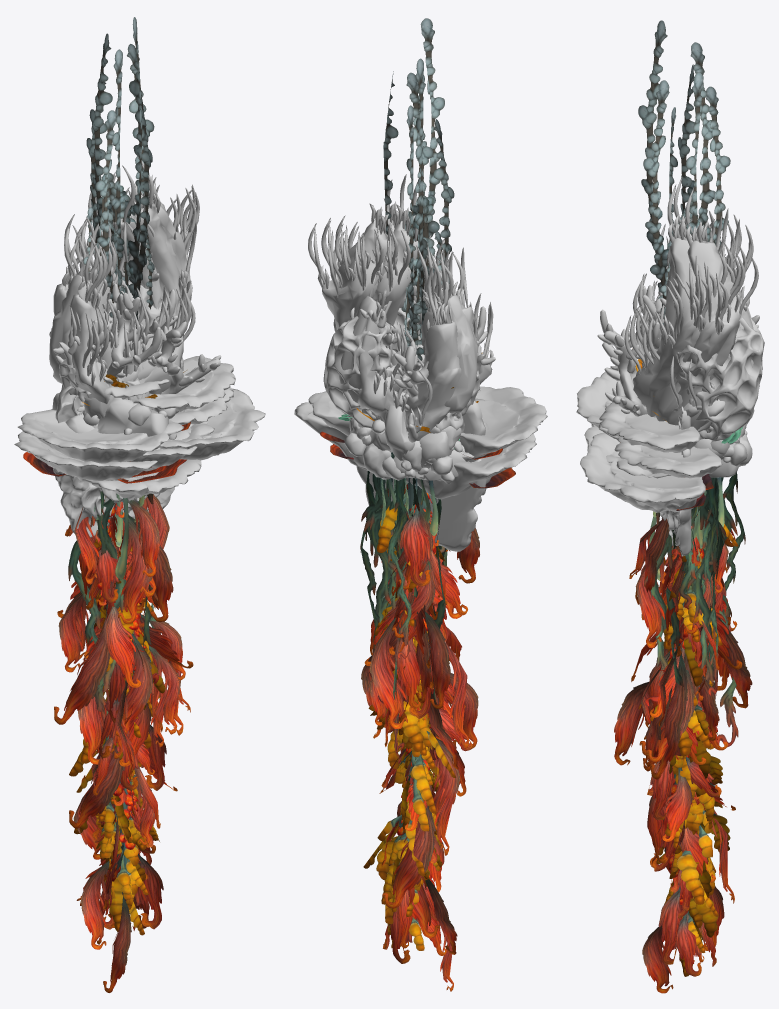
The model's file is SM_pln.fbx.
3 renders of one model, left to right at view 1: azimuth 30°, elevation 25°; view 2: azimuth 150°, elevation 25°; view 3: azimuth 270°, elevation 25°, orthographic.
Visible parts, largest first — view 1: Plant3_2, Mushroom_1G1, Plant3_3, Plant3_1, Mushroom_3G1, Mushroom_3G3, Plant1_4, Plant1_1, Mushroom_3G2, Mushroom_1G1.001, Mushroom_21, Mushroom_51 (+14 smaller); view 2: Mushroom_3G1, Plant3_2, Plant3_1, Mushroom_3G2, Plant3_3, Plant5_3, Mushroom_1G1, Plant1_1, Plant2_1, Mushroom_4G1, Mushroom_51, Mushroom_31 (+12 smaller); view 3: Plant3_2, Plant3_1, Mushroom_1G1, Mushroom_3G1, Mushroom_3G2, Plant3_3, Mushroom_4G1, Plant1_4, Plant2_1, Plant5_3, Plant2_2, Plant1_1 (+13 smaller).
Boxes of the visible parts, x1=… form: Plant3_2: x1=54, y1=494, x2=193, y2=992; Mushroom_1G1: x1=17, y1=356, x2=265, y2=498; Plant3_3: x1=65, y1=500, x2=185, y2=944; Plant3_1: x1=57, y1=501, x2=183, y2=917; Mushroom_3G1: x1=49, y1=165, x2=199, y2=418; Mushroom_3G3: x1=68, y1=234, x2=139, y2=403; Plant1_4: x1=89, y1=33, x2=148, y2=298; Plant1_1: x1=86, y1=17, x2=142, y2=317; Mushroom_3G2: x1=49, y1=156, x2=195, y2=402; Mushroom_1G1.001: x1=14, y1=387, x2=233, y2=481; Mushroom_21: x1=53, y1=357, x2=183, y2=537; Mushroom_51: x1=65, y1=397, x2=184, y2=449; Mushroom_3G1: x1=323, y1=174, x2=477, y2=460; Plant3_2: x1=365, y1=484, x2=472, y2=991; Plant3_1: x1=361, y1=486, x2=479, y2=948; Mushroom_3G2: x1=308, y1=179, x2=477, y2=414; Plant3_3: x1=364, y1=486, x2=467, y2=955; Plant5_3: x1=363, y1=492, x2=455, y2=950; Mushroom_1G1: x1=294, y1=386, x2=547, y2=470; Plant1_1: x1=403, y1=18, x2=454, y2=346; Plant2_1: x1=360, y1=471, x2=446, y2=758; Mushroom_4G1: x1=323, y1=316, x2=464, y2=432; Mushroom_51: x1=344, y1=416, x2=489, y2=483; Mushroom_31: x1=334, y1=181, x2=418, y2=378; Plant3_2: x1=631, y1=515, x2=734, y2=993; Plant3_1: x1=614, y1=520, x2=752, y2=950; Mushroom_1G1: x1=576, y1=363, x2=705, y2=513; Mushroom_3G1: x1=624, y1=184, x2=759, y2=425; Mushroom_3G2: x1=638, y1=187, x2=758, y2=430; Plant3_3: x1=629, y1=520, x2=742, y2=976; Mushroom_4G1: x1=695, y1=317, x2=764, y2=441; Plant1_4: x1=643, y1=42, x2=718, y2=314; Plant2_1: x1=676, y1=472, x2=745, y2=746; Plant5_3: x1=654, y1=510, x2=738, y2=940; Plant2_2: x1=644, y1=477, x2=726, y2=756; Plant1_1: x1=638, y1=20, x2=730, y2=319.
Bounding box in the file's own units: 185 × 266 × 1072.
